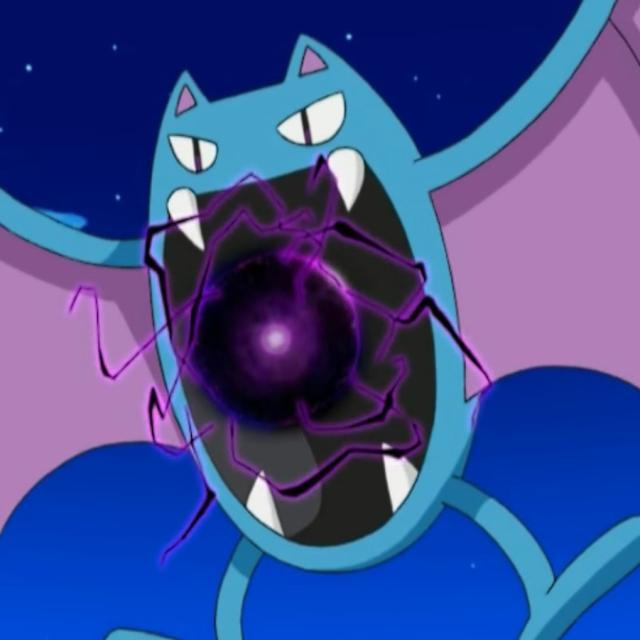Golbat: (97, 38, 527, 582)
